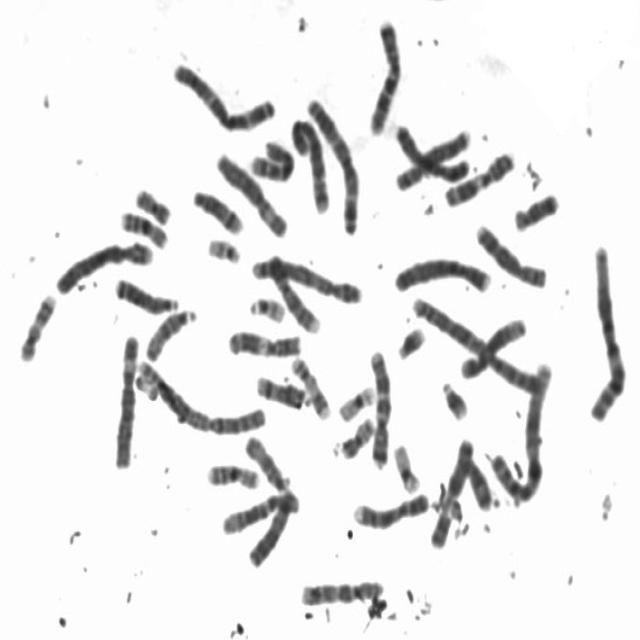A1: (486, 354, 555, 508), (585, 237, 629, 425)
A2: (406, 288, 552, 398), (131, 353, 270, 437)
A3: (302, 90, 363, 238), (167, 54, 278, 134)
B4: (51, 234, 156, 296), (389, 250, 494, 295)
B5: (248, 248, 365, 306), (287, 110, 332, 216)
C10: (297, 574, 386, 608), (245, 134, 296, 184)
C11: (440, 144, 519, 209), (224, 324, 304, 359)
C12: (456, 312, 529, 381), (218, 484, 302, 538)
C6: (212, 146, 290, 240), (109, 327, 141, 472)
C7: (364, 11, 405, 138), (365, 343, 393, 472)
C8: (471, 216, 550, 290), (391, 120, 473, 190)
C9: (264, 250, 322, 334), (349, 486, 433, 532)
D13: (244, 484, 299, 570), (111, 271, 180, 315)
D14: (188, 184, 244, 236), (252, 368, 312, 411)
D15: (140, 301, 199, 364), (241, 429, 294, 494)
E16: (117, 204, 170, 251), (202, 456, 262, 492)
E17: (14, 286, 58, 364), (287, 352, 333, 422)
E18: (510, 185, 562, 233), (459, 452, 495, 511)
F19: (389, 437, 423, 495), (334, 379, 378, 423)
F20: (337, 411, 377, 460), (131, 181, 173, 226)
G21: (436, 373, 471, 423), (393, 320, 428, 361)
G22: (244, 288, 287, 324), (203, 232, 243, 266)
X: (426, 432, 476, 552)
